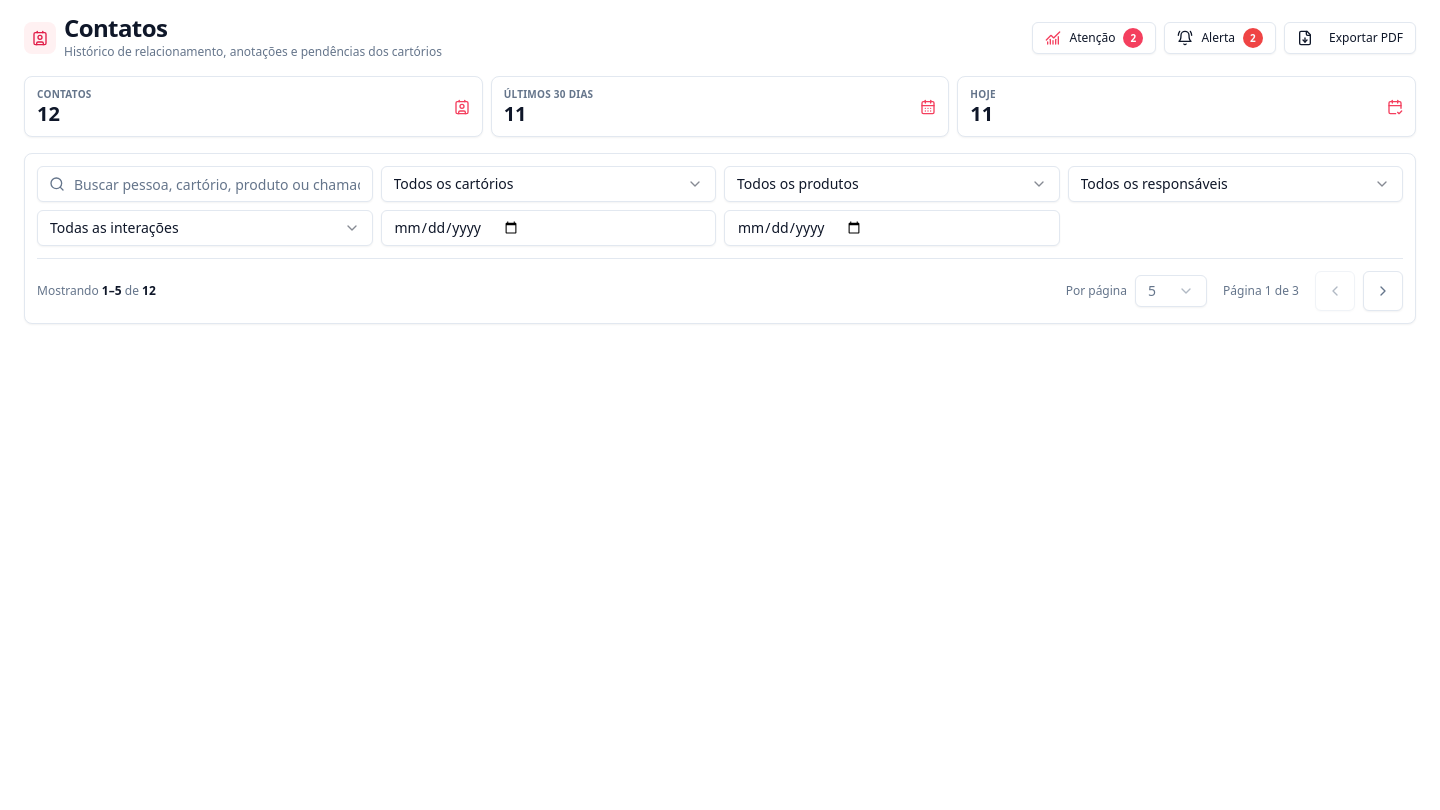
Test case: CS/CX contatos e agendamentos — permissões › exibe o painel de cartórios que precisam de atenção
The image size is (1440, 810).
Step 1. Click the button with aria-label "painel de atenção" → (1094,38), box [1032,22,1156,54]
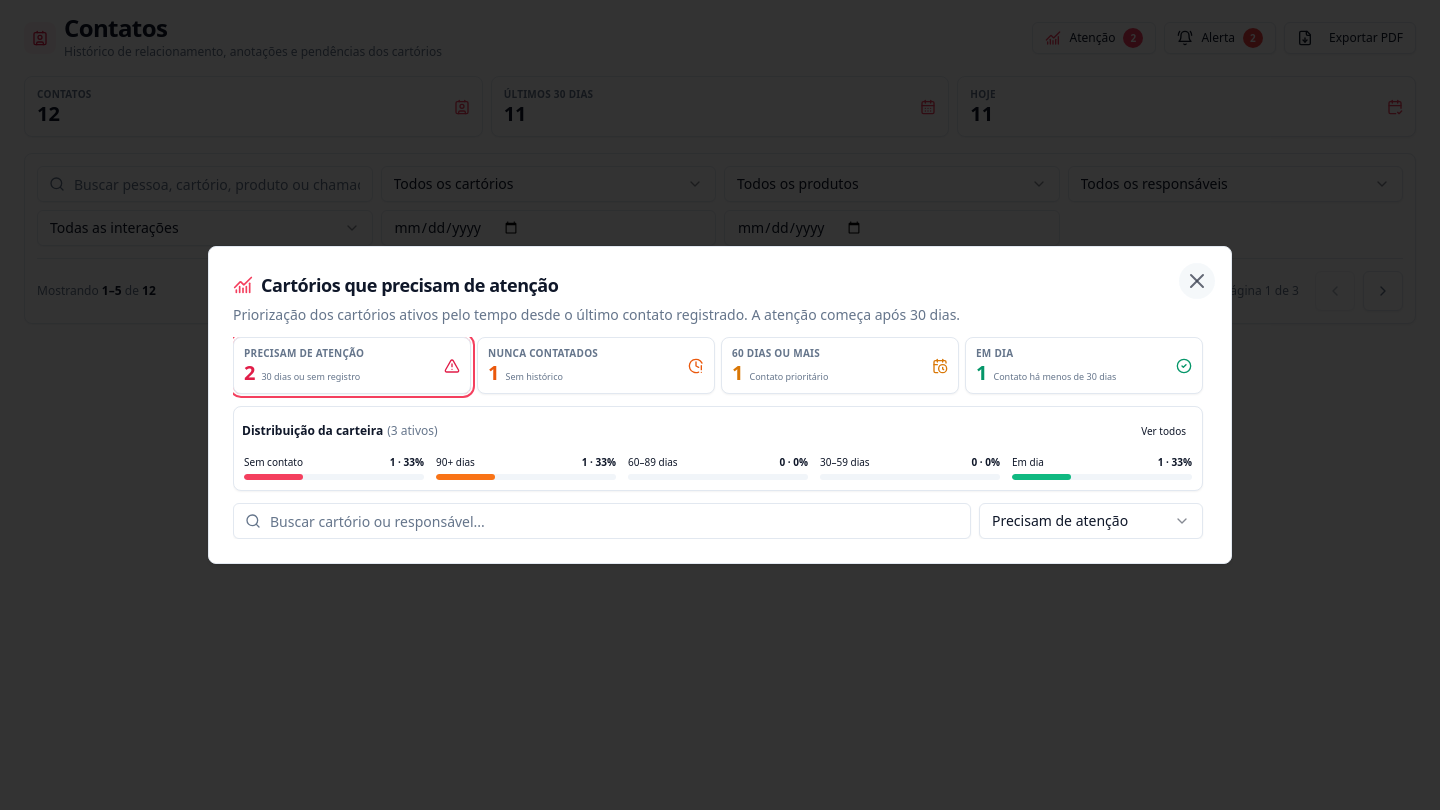
Expected: the dialog shows "Cartórios que precisam de atenção", [261,273,558,297]
Expected: the dialog shows "90+ dias", [434,453,618,482]
Expected: the dialog shows "A atenção começa após 30 dias", [233,305,960,324]
